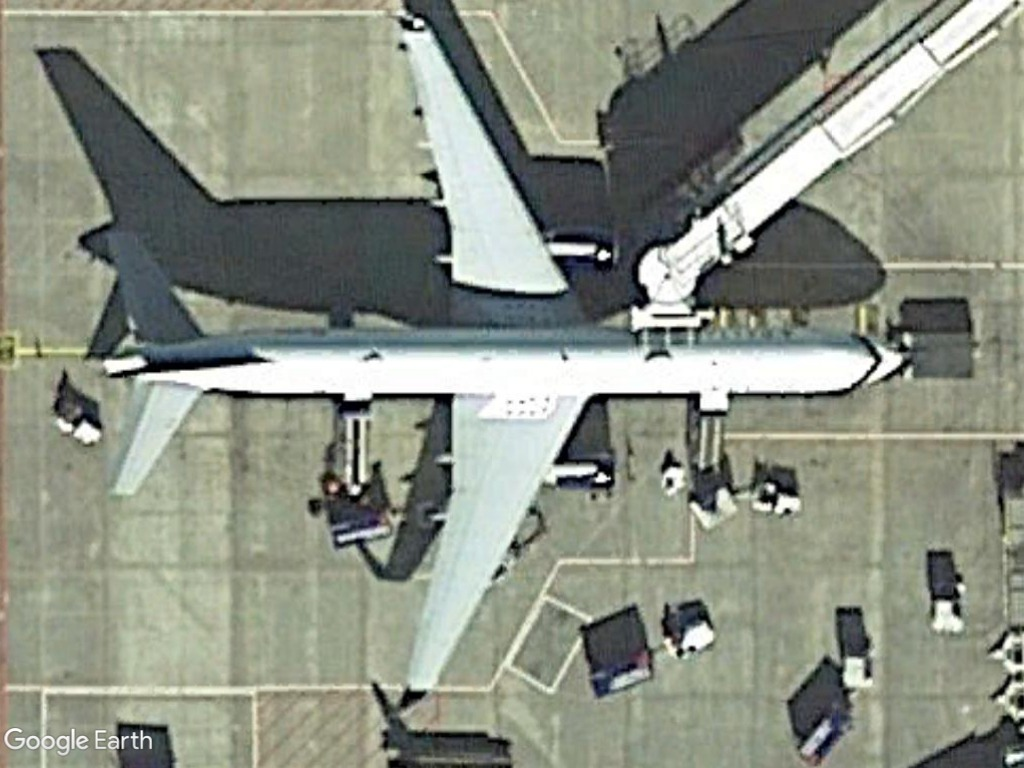airliner: (86, 17, 905, 713)
